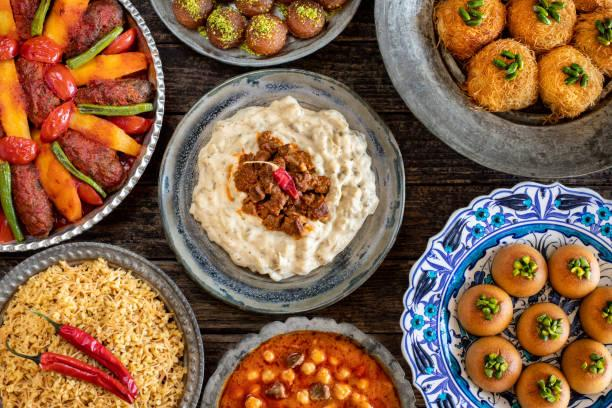Braised Crucian Carp: (159, 68, 397, 310), (398, 184, 609, 407), (377, 0, 612, 182), (0, 0, 162, 244), (2, 241, 205, 406)
